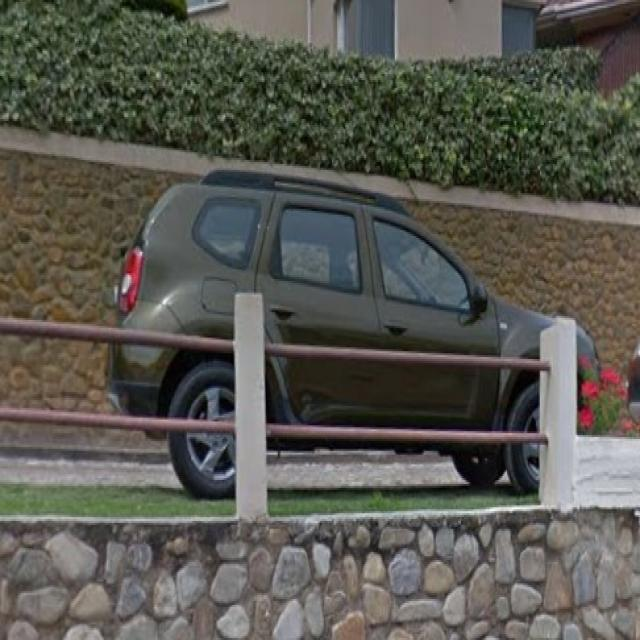cars: (108, 153, 608, 501)
